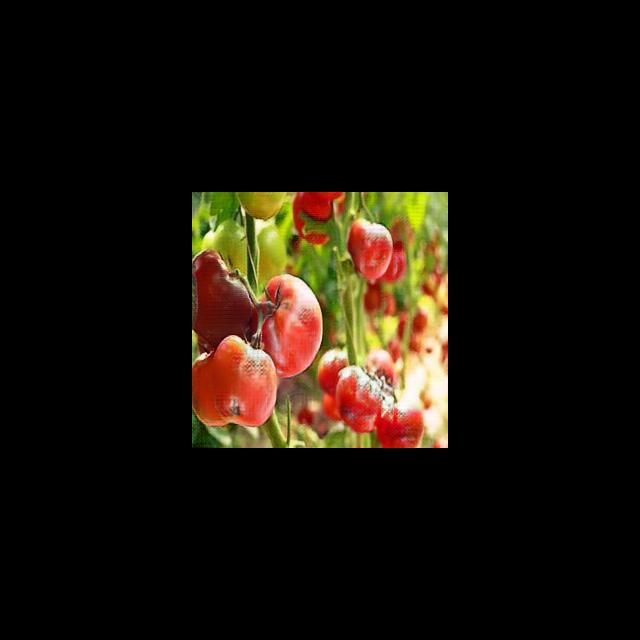tomato: (195, 336, 274, 429), (257, 275, 321, 377), (348, 219, 395, 284), (338, 368, 382, 433)
